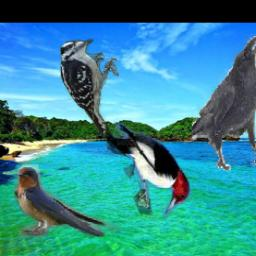Crow: (192, 35, 256, 172)
Swallow: (14, 165, 123, 238)
Woodpecker: (105, 119, 200, 220), (53, 38, 119, 136)
